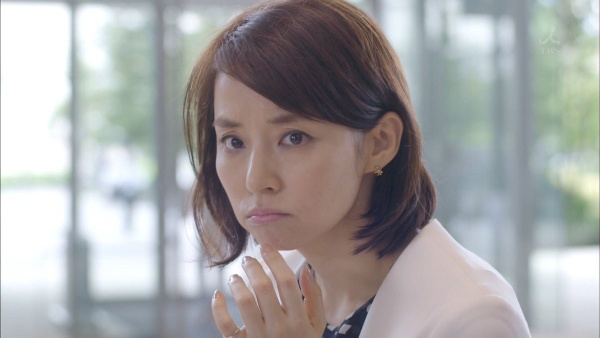female: (177, 1, 457, 260)
